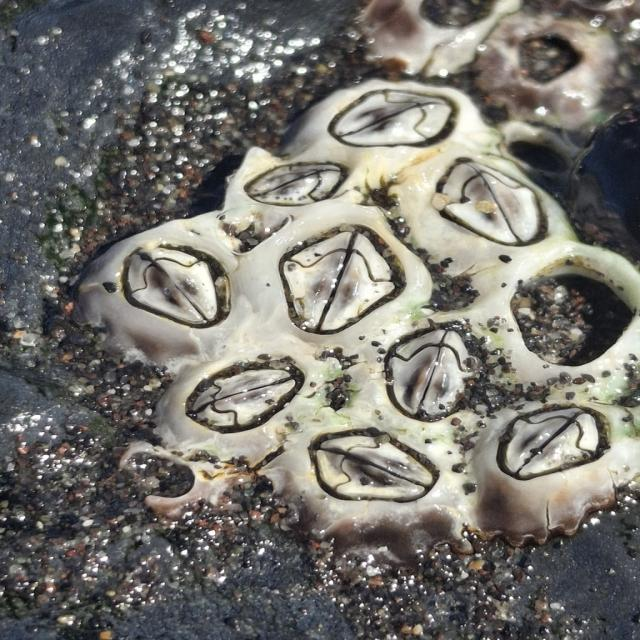barnacles: (490, 247, 640, 405), (87, 212, 241, 346), (481, 406, 639, 534), (283, 423, 467, 528), (275, 221, 421, 343), (307, 70, 468, 166), (157, 352, 320, 446), (424, 160, 564, 266), (374, 311, 487, 423), (224, 144, 355, 223)
